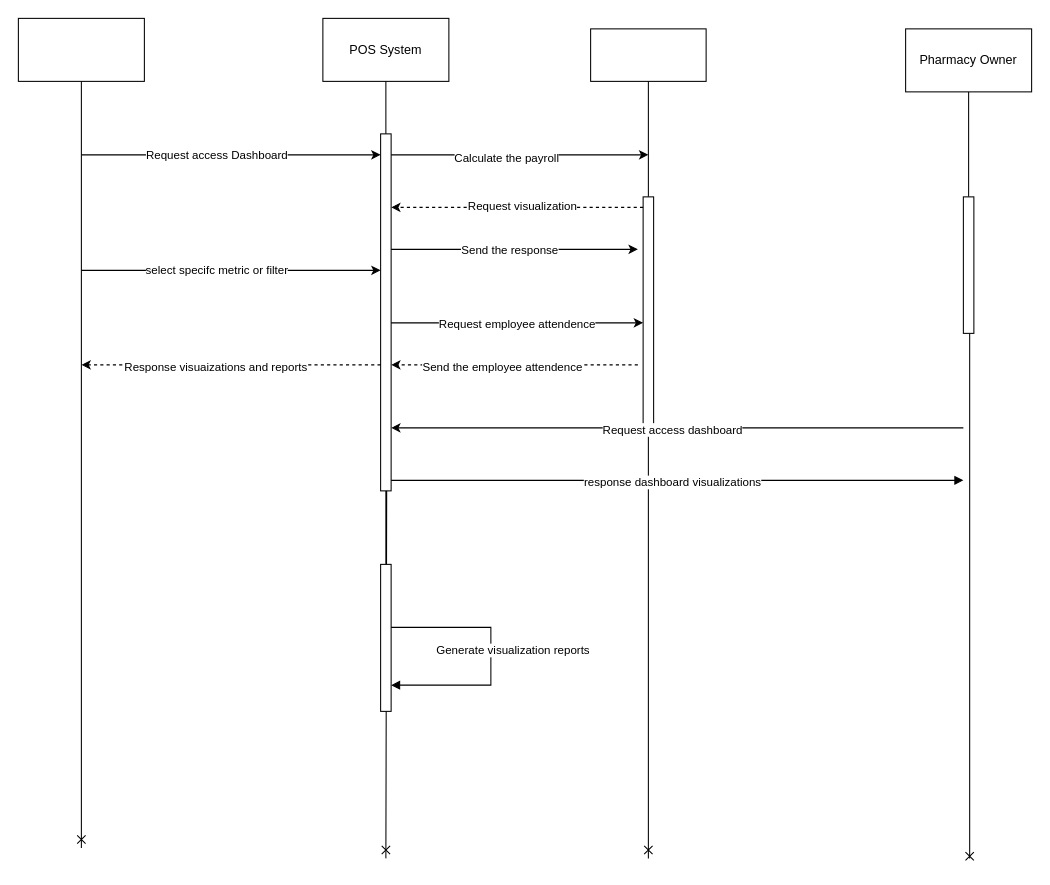
The diagram is 1050 pixels wide and 885 high, and some of its shapes have lost their labels. The centre of each missing label's shape, as x and y in pixels:
"Pharmacy Manager" belongs at (80,49).
"Web App" belongs at (648,54).
